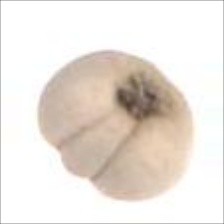L5: (55, 107, 139, 184), (110, 65, 183, 128)
L6: (30, 48, 200, 205)
